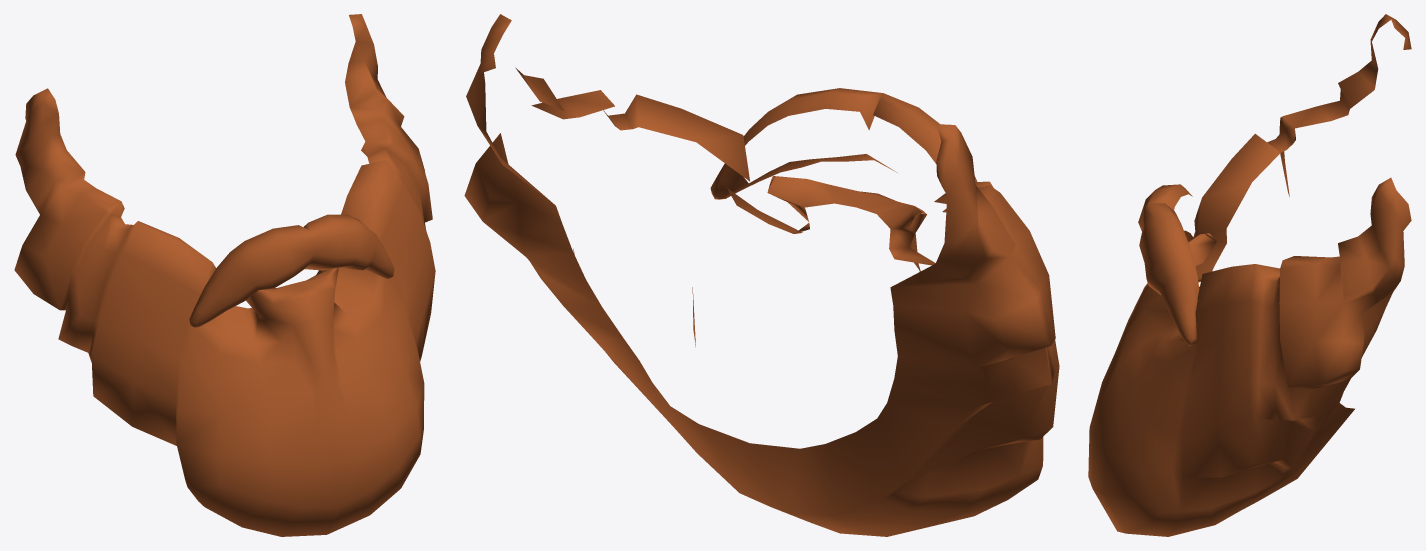
3 renders of one model, left to right at view 1: azimuth 30°, elevation 25°; view 2: azimuth 150°, elevation 25°; view 3: azimuth 270°, elevation 25°, orthographic. The views are drawn at different scales.
Visible parts, largest first — view 1: Wolf3D_Beard.006; view 2: Wolf3D_Beard.006; view 3: Wolf3D_Beard.006.
Part boxes in pixels (bbox=[...]): Wolf3D_Beard.006: bbox=[14, 14, 435, 536]; Wolf3D_Beard.006: bbox=[464, 14, 1059, 536]; Wolf3D_Beard.006: bbox=[1088, 14, 1411, 536].
Bounding box in the file's own units: 0.1928 × 0.1777 × 0.1224.
1 material, 1 textured.
